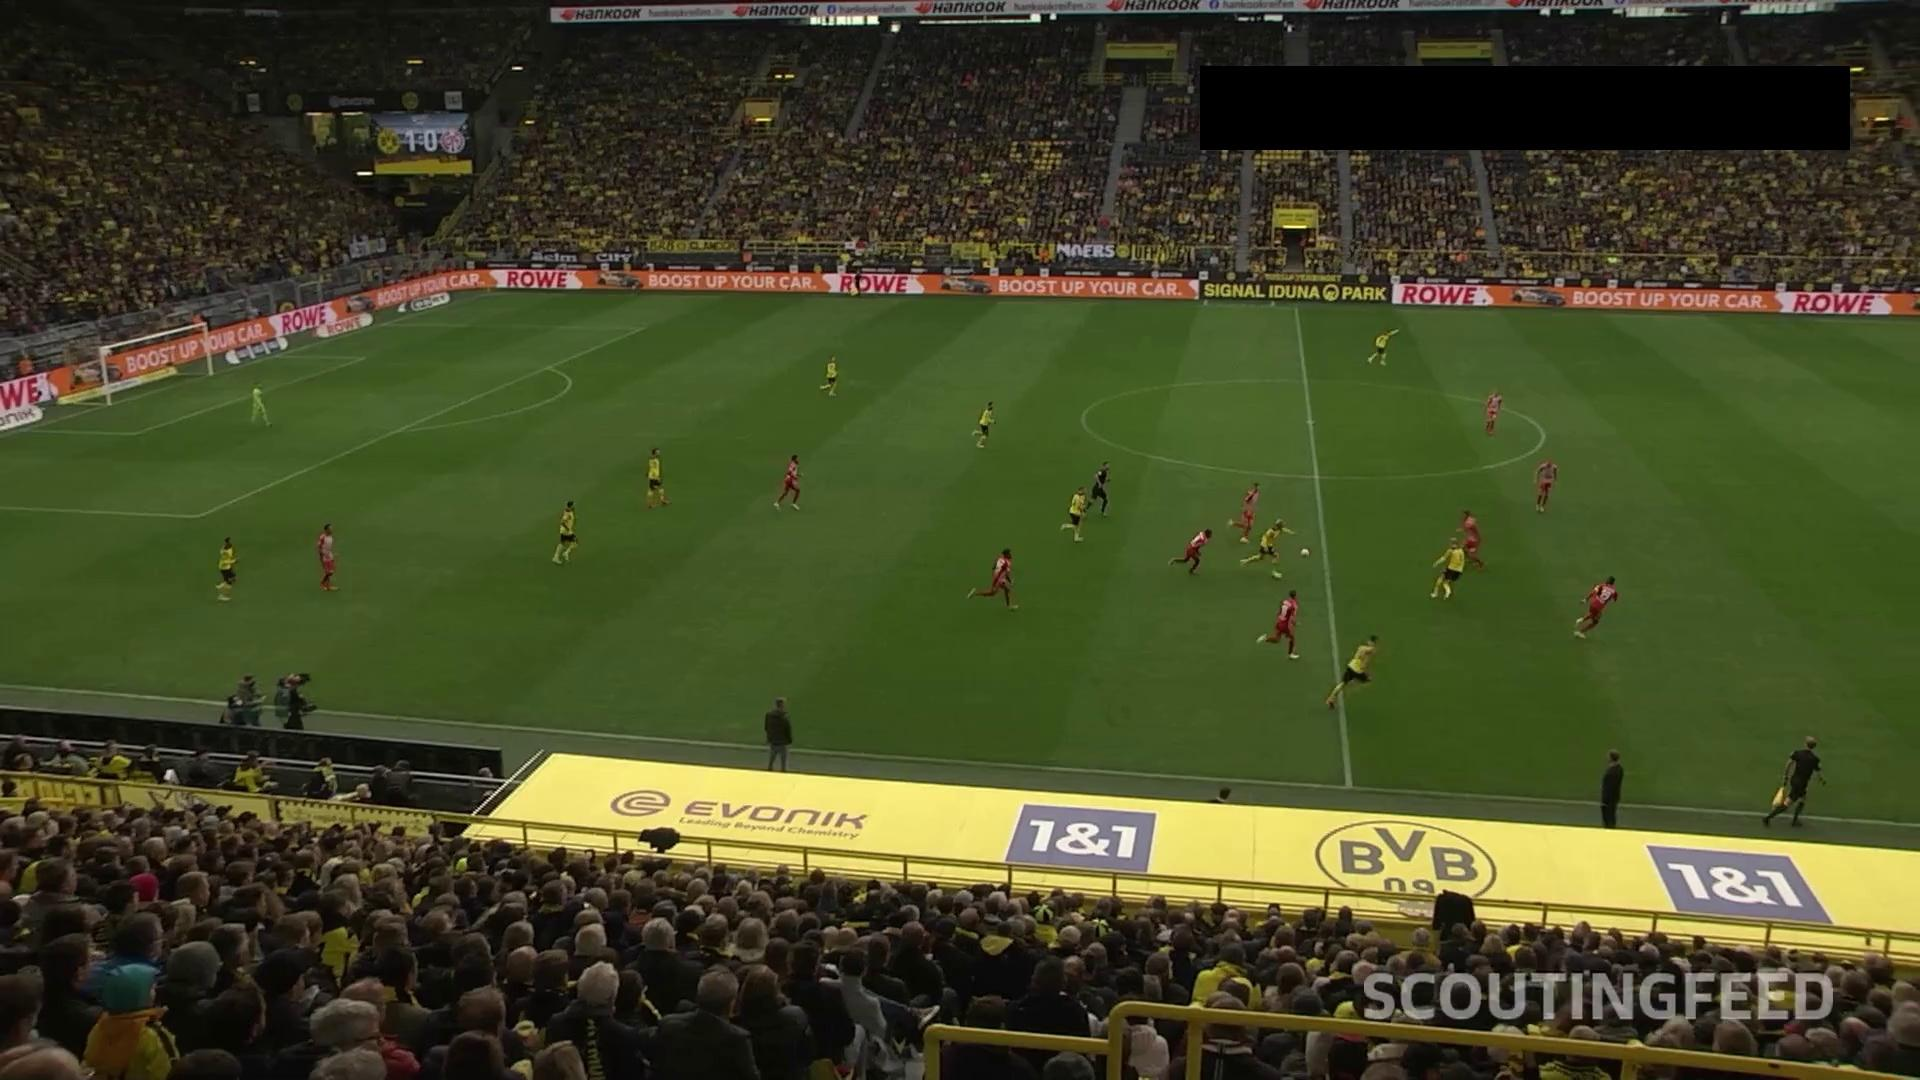Location-of-ball: (1292, 543, 1324, 568)
